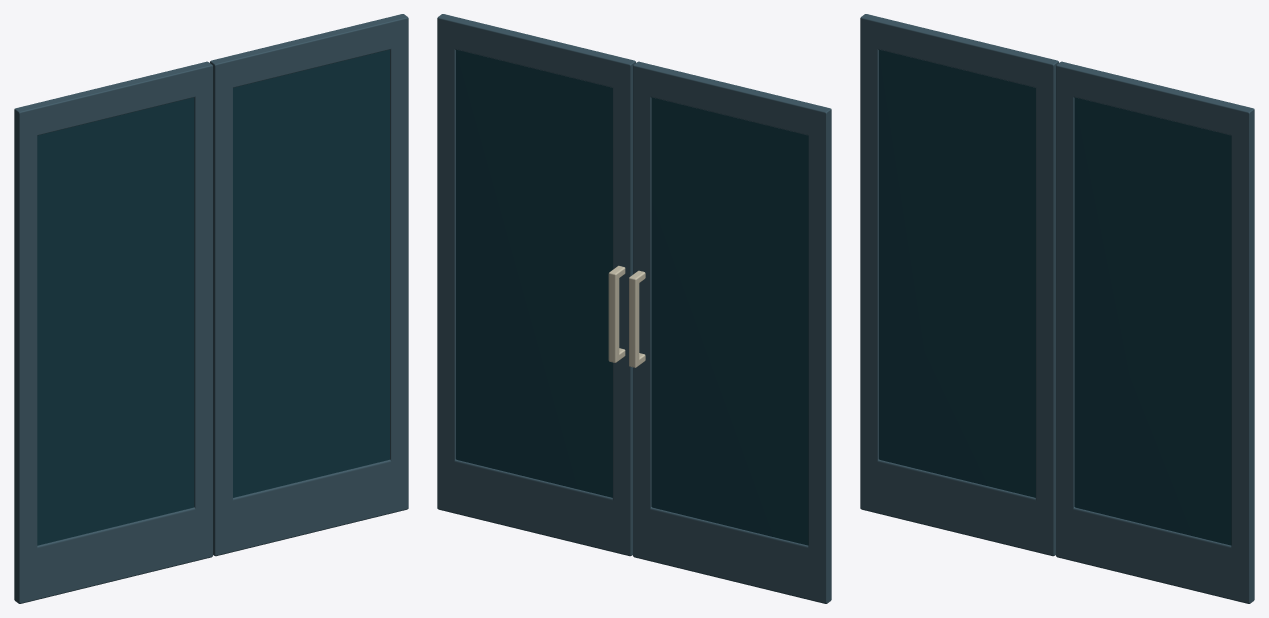
The model's file is city_shop_fittings_06_double.glb.
3 renders of one model, left to right at view 1: azimuth 30°, elevation 25°; view 2: azimuth 150°, elevation 25°; view 3: azimuth 330°, elevation 25°, orthographic.
Visible parts, largest first — view 1: double_leaf_1_glazing, double_leaf_2_glazing, double_leaf_1_stiles_rails, double_leaf_2_stiles_rails; view 2: double_leaf_1_glazing, double_leaf_2_glazing, double_leaf_1_stiles_rails, double_leaf_2_stiles_rails, double_leaf_2_static_pull, double_leaf_1_static_pull; view 3: double_leaf_2_glazing, double_leaf_1_glazing, double_leaf_2_stiles_rails, double_leaf_1_stiles_rails.
Boxes of the visible parts, x1=… form: double_leaf_1_glazing: x1=37, y1=97, x2=194, y2=545; double_leaf_2_glazing: x1=233, y1=49, x2=389, y2=497; double_leaf_1_stiles_rails: x1=14, y1=61, x2=212, y2=603; double_leaf_2_stiles_rails: x1=210, y1=14, x2=408, y2=556; double_leaf_1_glazing: x1=651, y1=97, x2=808, y2=545; double_leaf_2_glazing: x1=456, y1=49, x2=612, y2=497; double_leaf_1_stiles_rails: x1=633, y1=61, x2=831, y2=603; double_leaf_2_stiles_rails: x1=437, y1=14, x2=635, y2=556; double_leaf_2_static_pull: x1=608, y1=265, x2=625, y2=362; double_leaf_1_static_pull: x1=629, y1=270, x2=645, y2=367; double_leaf_2_glazing: x1=1074, y1=97, x2=1231, y2=545; double_leaf_1_glazing: x1=879, y1=49, x2=1035, y2=497; double_leaf_2_stiles_rails: x1=1056, y1=61, x2=1254, y2=603; double_leaf_1_stiles_rails: x1=860, y1=14, x2=1058, y2=556.
Size of the model in its own units: 1.82 by 2.2 by 0.123.
